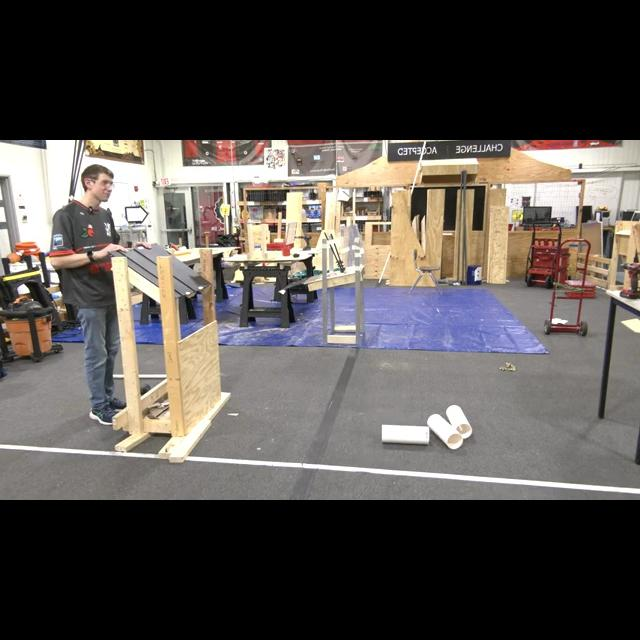CORAL: (428, 412, 464, 448), (381, 423, 431, 445), (446, 406, 472, 438)
